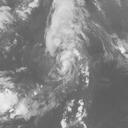cyclone: (42, 32, 86, 87)
